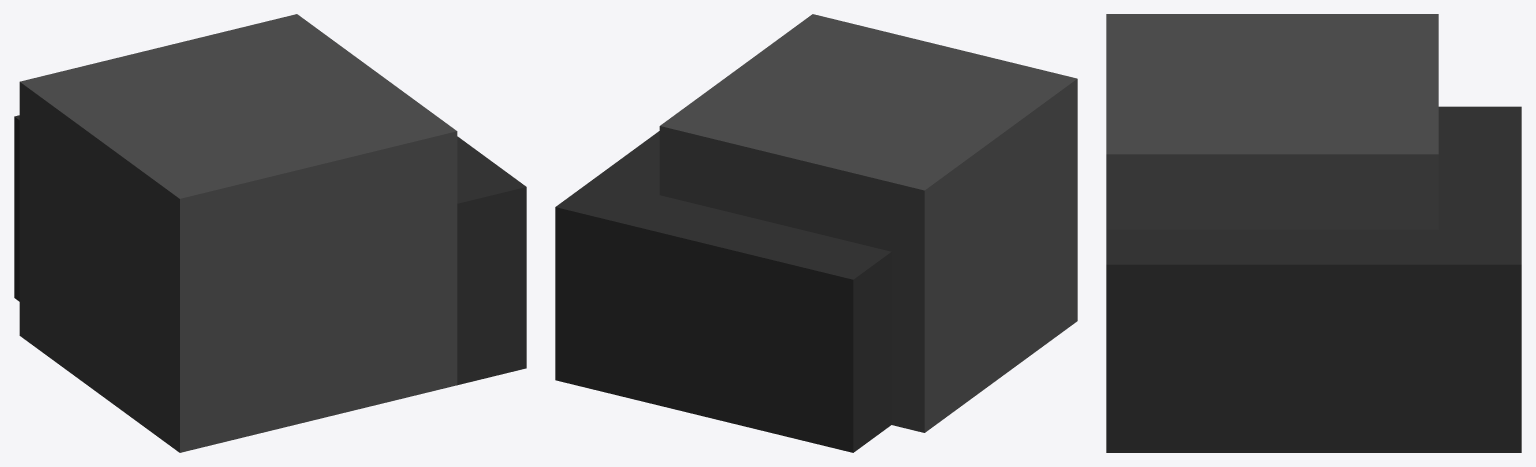
The model's file is Pedra3.obj.
3 renders of one model, left to right at view 1: azimuth 30°, elevation 25°; view 2: azimuth 150°, elevation 25°; view 3: azimuth 270°, elevation 25°, orthographic. The views are drawn at different scales.
Visible parts, largest first — view 1: Pedra3; view 2: Pedra3; view 3: Pedra3.
Part boxes in pixels (<box>): Pedra3: <box>14,14,526,452</box>; Pedra3: <box>555,14,1077,452</box>; Pedra3: <box>1106,14,1521,452</box>.
Size of the model in its own units: 20 by 14 by 20.
1 material, 1 textured.
